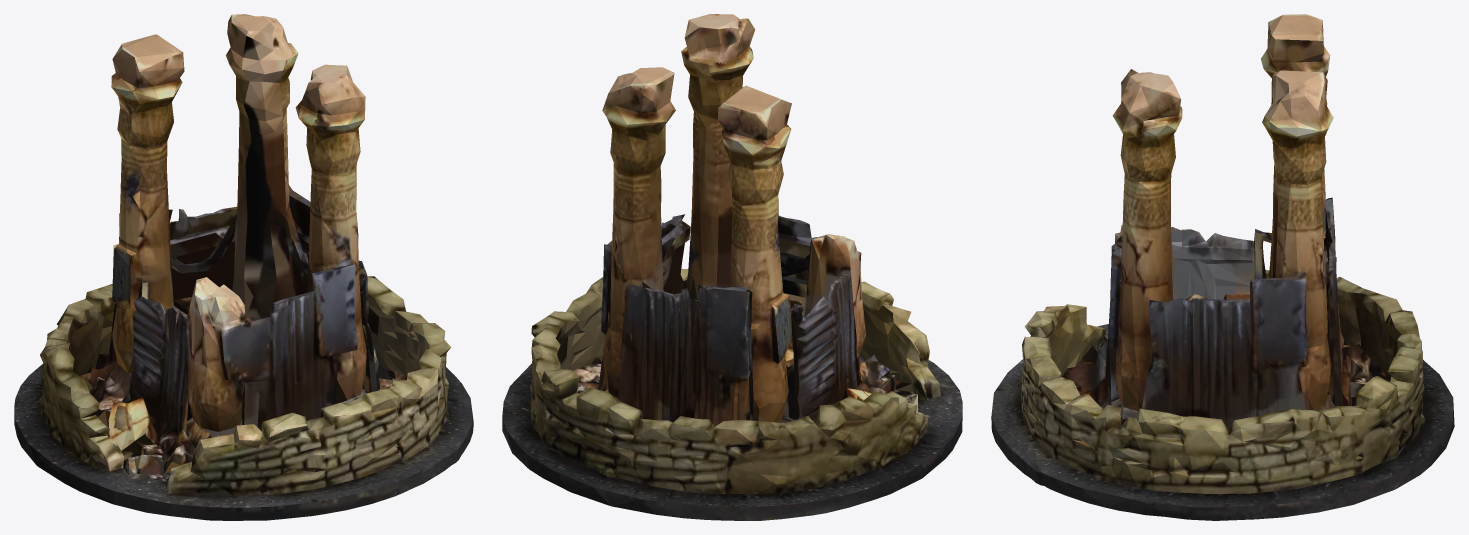
Rendered from temple-broken-pillars.glb.
3 views of the same model, side by side, from view 1: azimuth 30°, elevation 25°; view 2: azimuth 150°, elevation 25°; view 3: azimuth 270°, elevation 25° (orthographic).
Visible parts, largest first — view 1: tmpwcybpqvs.ply; view 2: tmpwcybpqvs.ply; view 3: tmpwcybpqvs.ply.
Boxes of the visible parts, left/top/right/bottom form: tmpwcybpqvs.ply: left=14, top=14, right=473, bottom=520; tmpwcybpqvs.ply: left=502, top=14, right=962, bottom=520; tmpwcybpqvs.ply: left=991, top=14, right=1454, bottom=520.
Bounding box in the file's own units: 3.4 × 3 × 3.4.
1 material, 1 textured.
